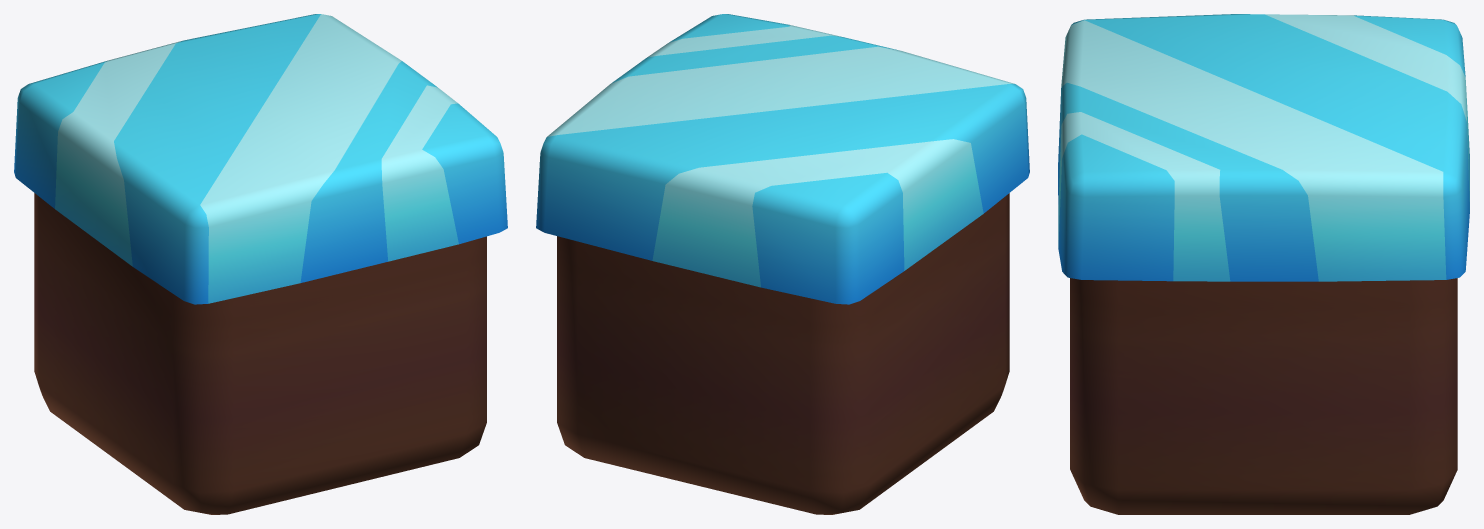
The model's file is block_spec_ice.fbx.
3 views of the same model, side by side, from view 1: azimuth 30°, elevation 25°; view 2: azimuth 150°, elevation 25°; view 3: azimuth 270°, elevation 25° (orthographic). The views are drawn at different scales.
Parts seen in each view (by area): view 1: block_spec_ice; view 2: block_spec_ice; view 3: block_spec_ice.
Part boxes in pixels (x1=…): block_spec_ice: x1=14, y1=14, x2=507, y2=514; block_spec_ice: x1=536, y1=14, x2=1029, y2=514; block_spec_ice: x1=1058, y1=14, x2=1469, y2=514.
Bounding box in the file's own units: 213 × 205 × 213.
